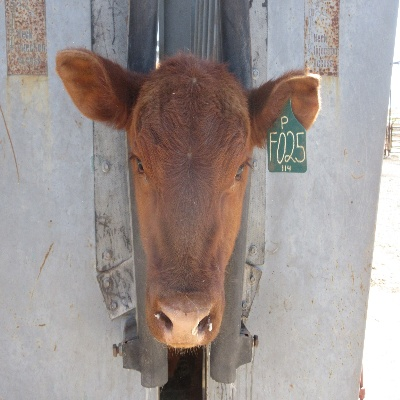fidget_spinner: (152, 297, 214, 349)
